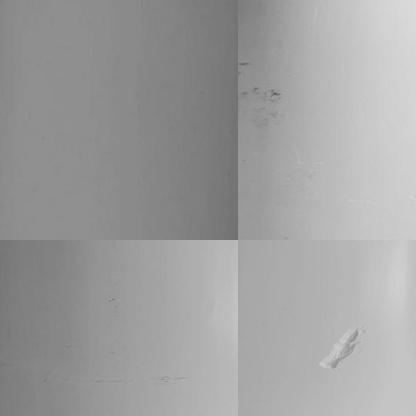sunshang: (313, 324, 365, 380)
